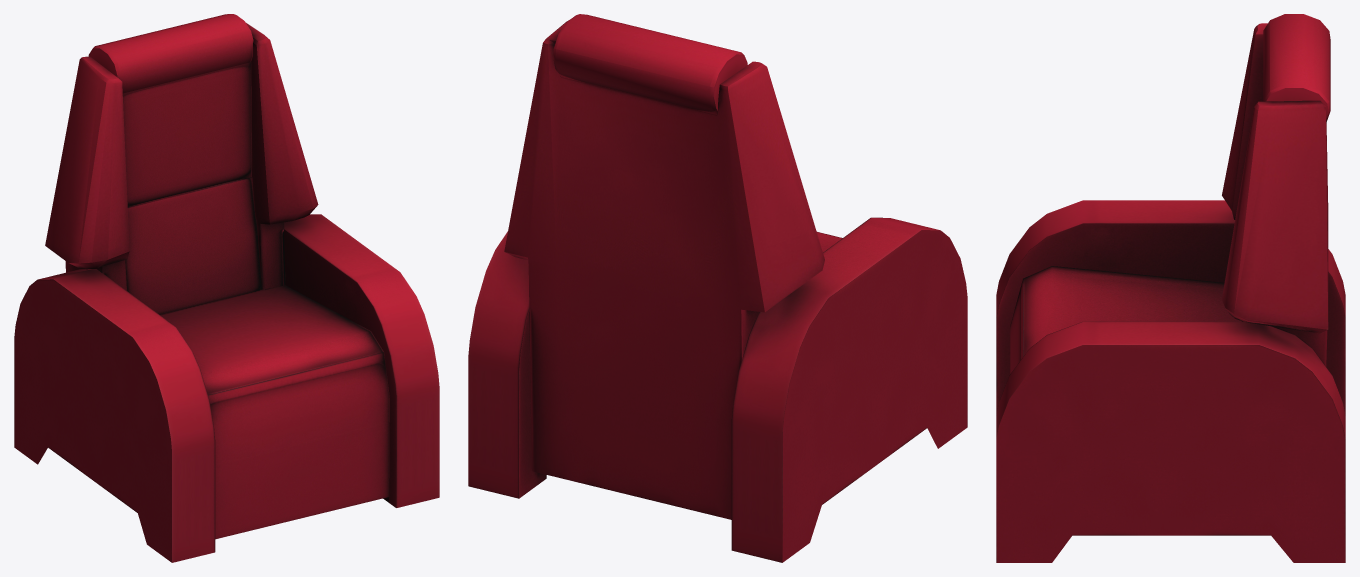
File: butacavip.dae
3 renders of one model, left to right at view 1: azimuth 30°, elevation 25°; view 2: azimuth 150°, elevation 25°; view 3: azimuth 270°, elevation 25°, orthographic. The views are drawn at different scales.
Visible parts, largest first — view 1: Mesh; view 2: Mesh; view 3: Mesh.
Part boxes in pixels (x1,y1,x2,y2): Mesh: (14,14,439,562); Mesh: (468,14,967,562); Mesh: (996,14,1345,562).
Size of the model in its own units: 0.8494 by 0.867 by 1.21.
1 material, 1 textured.
